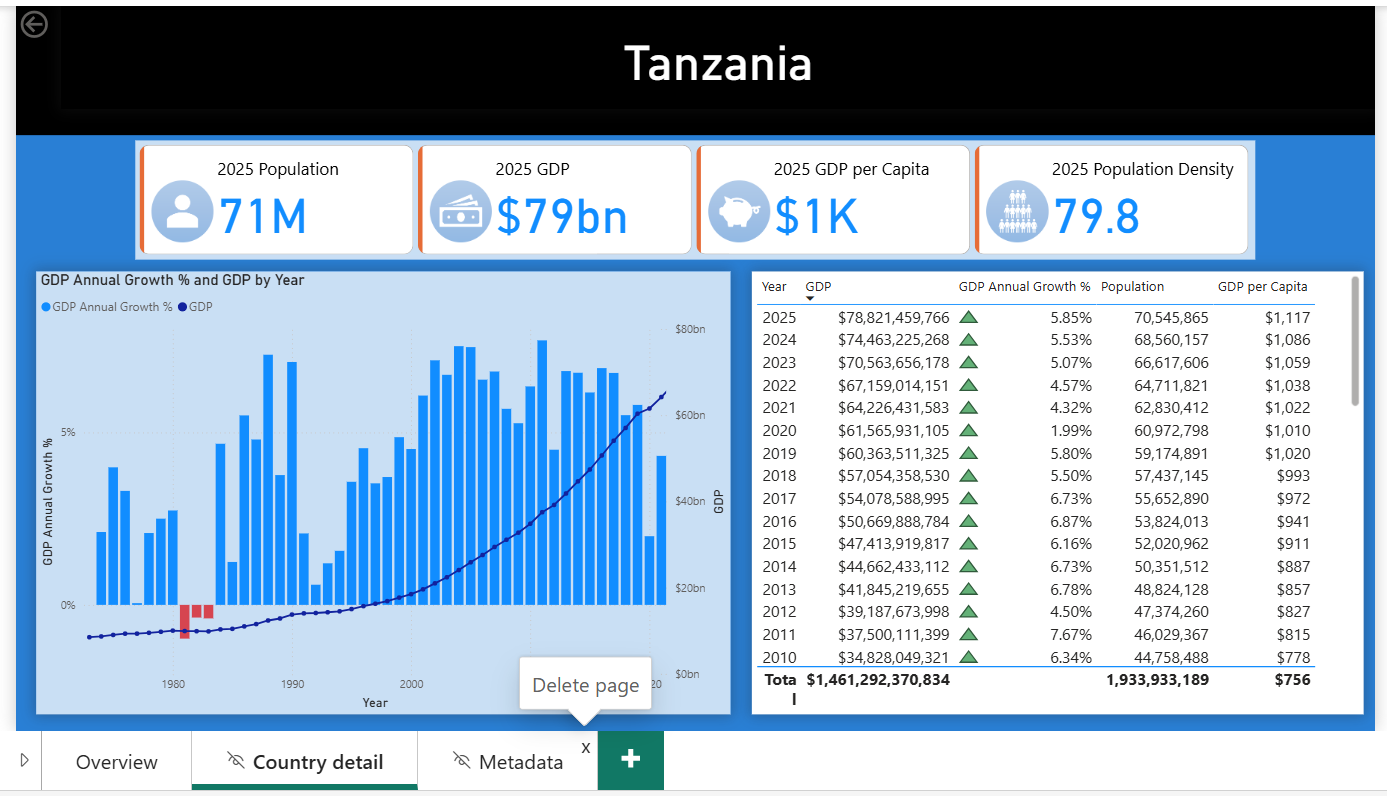

The dashboard page shown, as its layout file describes it:
{"tool":"powerbi","page":{"name":"Country detail","canvas":[1500,800],"ordinal":1},"visuals":[{"type":"tableEx","fields":{"Values":["Indicators.Year","Measures (2).GDP","Measures (2).GDP Annual Growth %","Measures (2).Population","Measures (2).GDP per Capita"]},"box":[812.2,292.3,675.3,488.4],"z":0},{"type":"lineStackedColumnComboChart","fields":{"Category":["Indicators.Year"],"Y":["Measures (2).GDP Annual Growth %"],"Y2":["Measures (2).GDP"]},"box":[22.2,292.3,765.9,488.4],"z":1000},{"type":"actionButton","box":[0,0,100,40],"z":2000},{"type":"card","fields":{"Values":["Measures (2).Selected Country"]},"box":[50,0,1450.5,112.9],"z":3000},{"type":"cardVisual","fields":{"Data":["Measures (2).2020 Population","Measures (2).2020 GDP","Measures (2).2020 GDP per Capita","Measures (2).2020 Population Density"]},"box":[131.4,148,1235.9,131.4],"z":4000}]}

Visuals, with their boxes in screenshot pixels (x1, y1, x2, y2):
tableEx - Indicators.Year x Measures (2).GDP: bbox=(751, 267, 1367, 712)
lineStackedColumnComboChart - Indicators.Year x Measures (2).GDP Annual Growth %: bbox=(31, 267, 729, 712)
actionButton: bbox=(11, 0, 102, 36)
card - Measures (2).Selected Country: bbox=(56, 0, 1379, 103)
cardVisual - Measures (2).2020 Population x Measures (2).2020 GDP: bbox=(131, 135, 1258, 255)
